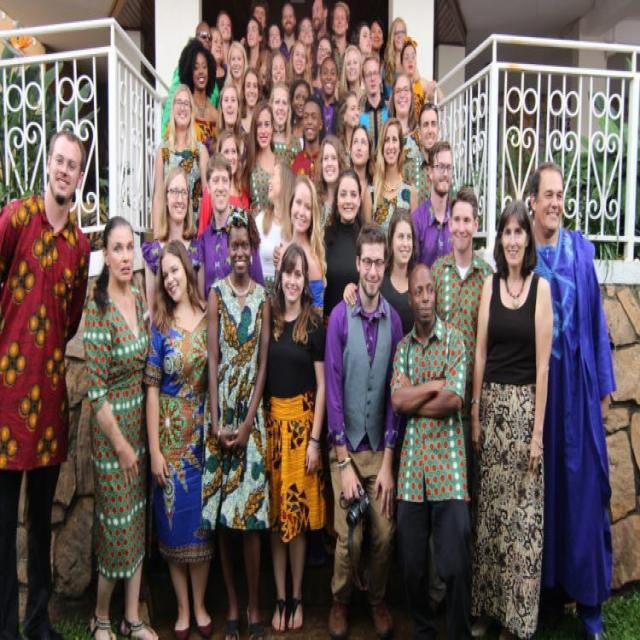body: (0, 124, 94, 638), (526, 159, 618, 640), (466, 196, 555, 639), (320, 219, 405, 639), (78, 209, 160, 639), (197, 204, 273, 638), (387, 256, 473, 639), (138, 236, 218, 639), (256, 239, 329, 639), (427, 182, 495, 538), (139, 161, 207, 333), (192, 150, 266, 308), (340, 204, 422, 338), (152, 83, 212, 243), (273, 175, 328, 316), (320, 168, 364, 337), (408, 138, 460, 270), (165, 37, 222, 154), (163, 37, 222, 148), (195, 126, 251, 240), (403, 101, 458, 216), (368, 114, 420, 233), (239, 98, 288, 218), (253, 160, 296, 288), (357, 54, 389, 208), (311, 131, 355, 229), (292, 92, 325, 206), (398, 33, 438, 122), (266, 80, 302, 169), (215, 81, 249, 174), (238, 67, 266, 173), (348, 122, 376, 225), (386, 68, 422, 148), (312, 54, 342, 145), (380, 15, 408, 106), (217, 38, 251, 108), (335, 88, 360, 171), (311, 34, 341, 101), (327, 0, 351, 81), (338, 42, 366, 104), (263, 47, 294, 98), (208, 25, 230, 94), (288, 77, 312, 139), (288, 37, 313, 90), (243, 14, 267, 68), (278, 2, 299, 62), (215, 7, 235, 64), (254, 47, 274, 99), (370, 16, 386, 81), (350, 20, 373, 64), (264, 17, 288, 58), (295, 15, 315, 56), (310, 0, 330, 41), (250, 0, 268, 33)
